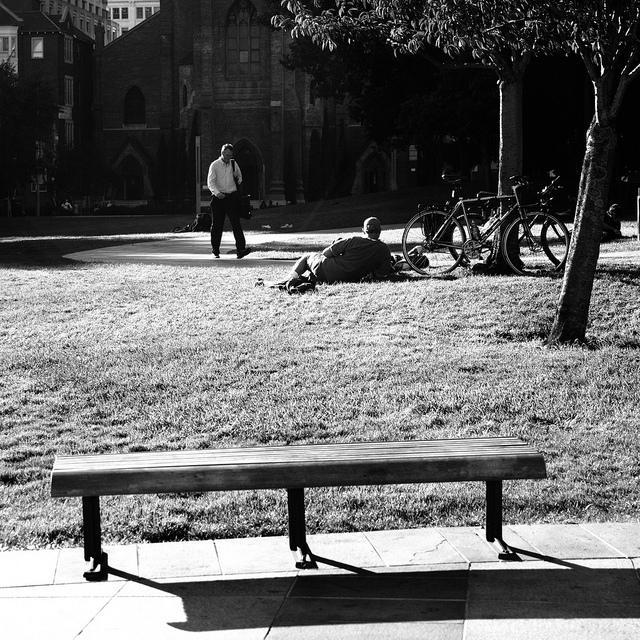bicycle: (402, 192, 570, 272)
